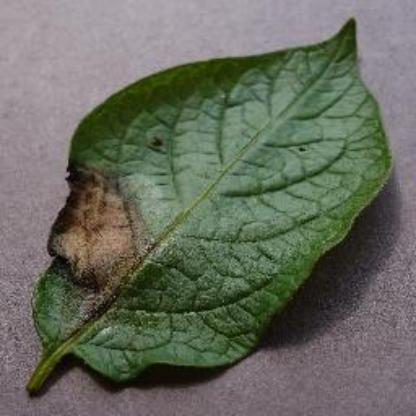Late-Blight: (21, 15, 396, 399)
